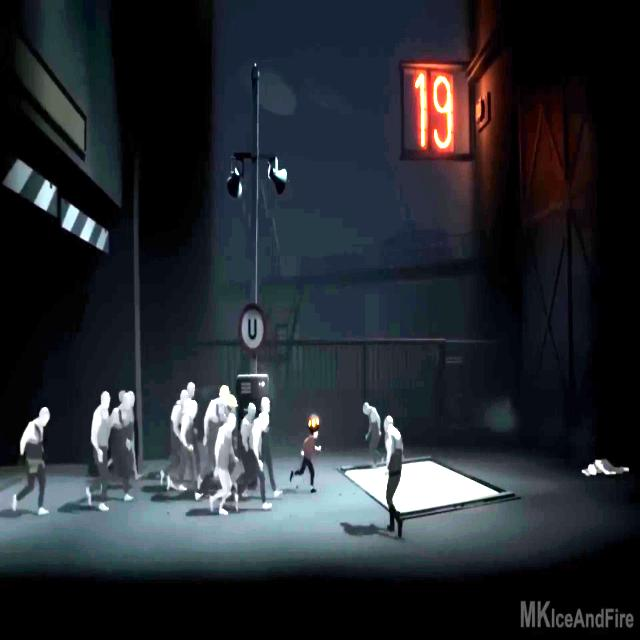boy: (289, 431, 321, 493)
zombie: (13, 408, 50, 514), (86, 390, 109, 512), (244, 411, 272, 509), (382, 414, 404, 538), (210, 414, 236, 515), (180, 400, 203, 503), (112, 393, 133, 501), (363, 402, 381, 467), (204, 385, 231, 413), (187, 381, 197, 399), (260, 398, 271, 410)
